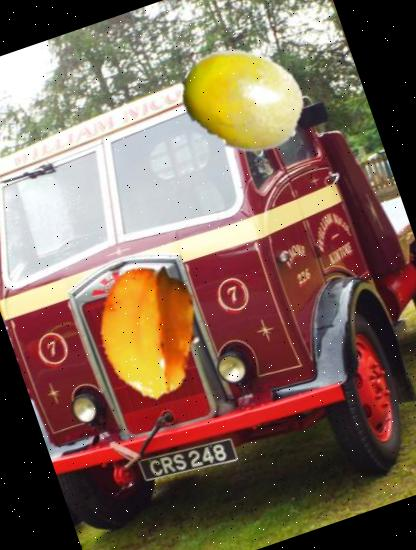Carambula: (65, 246, 237, 418)
Maracuja: (164, 21, 323, 180)
